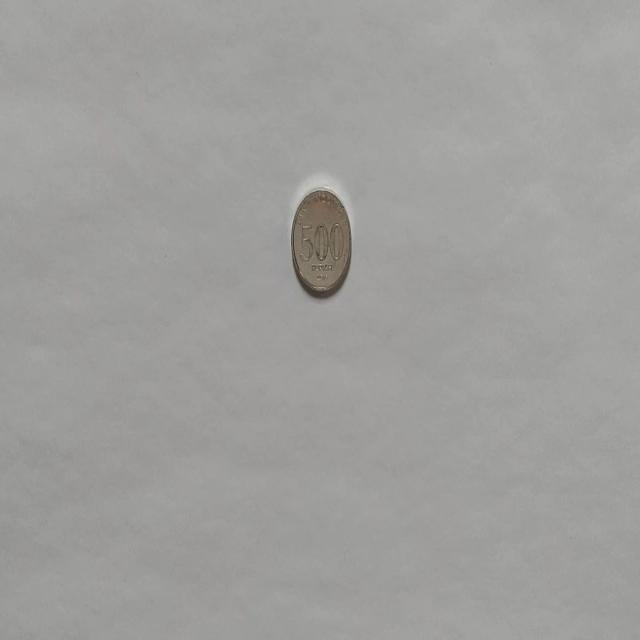lima ratus rupiah: (290, 186, 352, 298)
